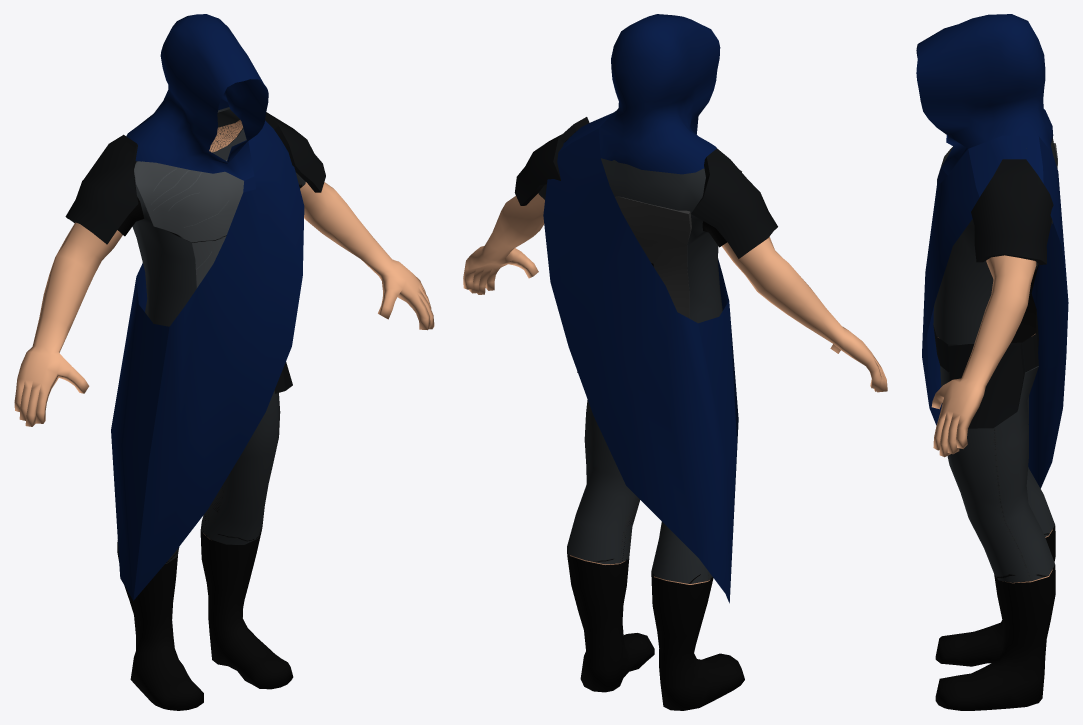
The model's file is MageWarrior.FBX.
3 views of the same model, side by side, from view 1: azimuth 30°, elevation 25°; view 2: azimuth 150°, elevation 25°; view 3: azimuth 270°, elevation 25° (orthographic).
Parts seen in each view (by area): view 1: Hood, Body, Boots, Chest Plate, ShoulderPad, Shirt, Pants; view 2: Hood, Boots, Body, Pants, ShoulderPad, Shirt, BackPlate; view 3: Hood, Pants, Boots, Body, ShoulderPad, Shirt, Belt.
Boxes of the visible parts, x1,y1,x2,y2 form: Hood: (111, 14, 304, 600); Body: (14, 120, 434, 539); Boots: (117, 528, 293, 710); Chest Plate: (134, 159, 243, 288); ShoulderPad: (65, 112, 325, 244); Shirt: (117, 107, 305, 326); Pants: (117, 390, 280, 563); Hood: (543, 14, 738, 603); Boots: (567, 550, 744, 710); Body: (463, 193, 887, 584); Pants: (567, 400, 712, 583); ShoulderPad: (514, 117, 777, 258); Shirt: (538, 158, 726, 323); BackPlate: (615, 196, 691, 317); Hood: (916, 14, 1068, 488); Pants: (940, 365, 1055, 582); Boots: (935, 525, 1055, 710); Body: (931, 255, 1052, 583); ShoulderPad: (971, 138, 1053, 264); Shirt: (933, 139, 1057, 344); Belt: (933, 312, 1038, 428).
Bounding box in the file's own units: 106 × 161 × 33.48.
